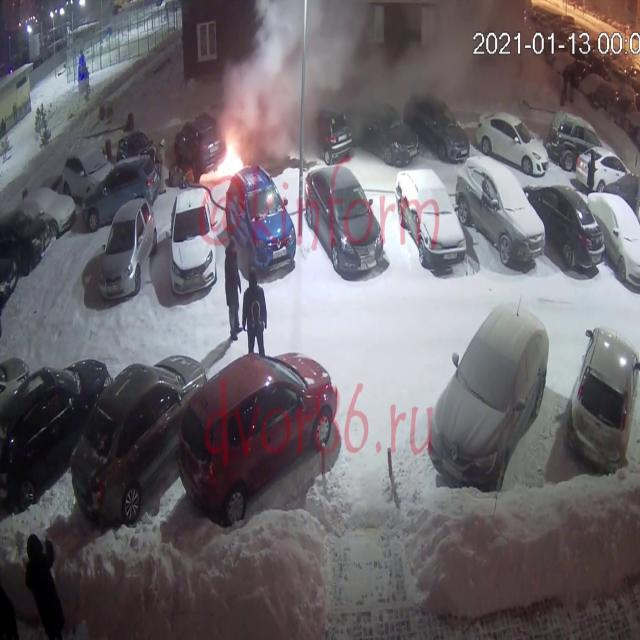Fire: (200, 127, 250, 187)
Smoke: (220, 0, 542, 150)
